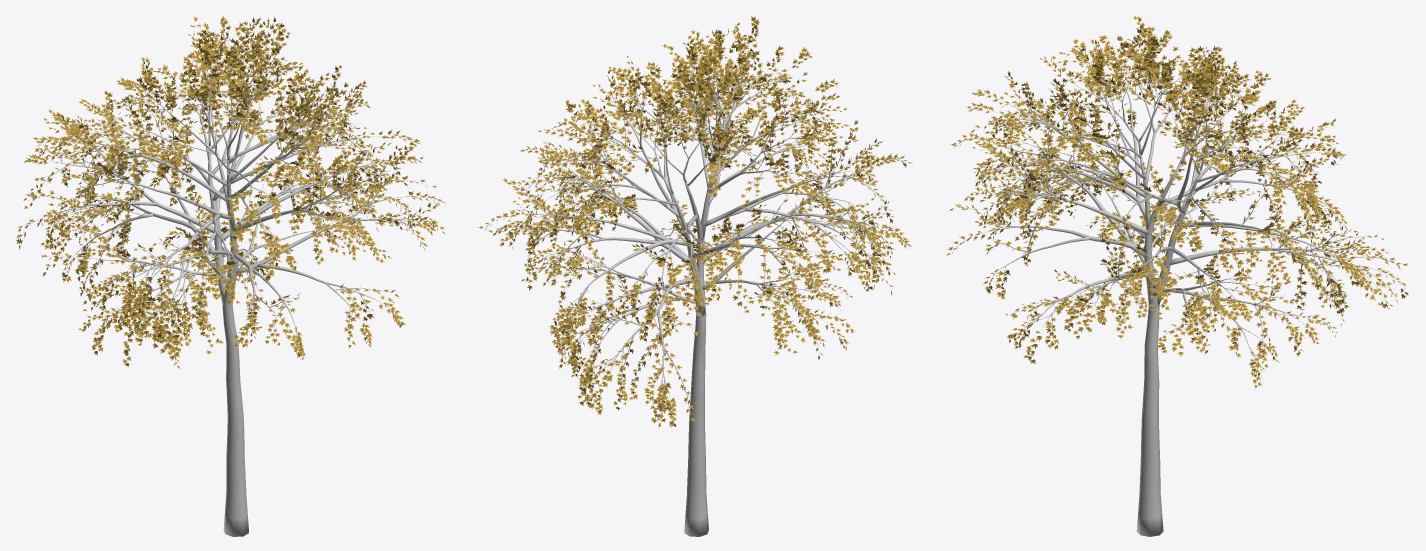
The model's file is GenTree-103_AE3D_03122023-F1.fbx.
3 renders of one model, left to right at view 1: azimuth 30°, elevation 25°; view 2: azimuth 150°, elevation 25°; view 3: azimuth 270°, elevation 25°, orthographic. The views are drawn at different scales.
Parts seen in each view (by area): view 1: leaves, GenTree-Main Trunk, GenTree - Twigs Leaf Bearing; view 2: leaves, GenTree-Main Trunk, GenTree - Twigs Leaf Bearing; view 3: leaves, GenTree-Main Trunk, GenTree - Twigs Leaf Bearing.
Boxes of the visible parts, x1,y1,x2,y2 form: leaves: [16, 16, 445, 369]; GenTree-Main Trunk: [47, 44, 411, 536]; GenTree - Twigs Leaf Bearing: [25, 22, 429, 358]; leaves: [477, 16, 912, 427]; GenTree-Main Trunk: [522, 69, 875, 536]; GenTree - Twigs Leaf Bearing: [497, 38, 903, 420]; leaves: [947, 16, 1408, 388]; GenTree-Main Trunk: [997, 66, 1372, 536]; GenTree - Twigs Leaf Bearing: [955, 34, 1400, 371].
Bounding box in the file's own units: 1320 × 1684 × 1456.
